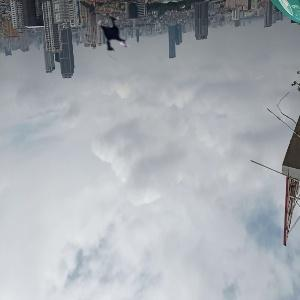drone: (87, 6, 144, 63)
